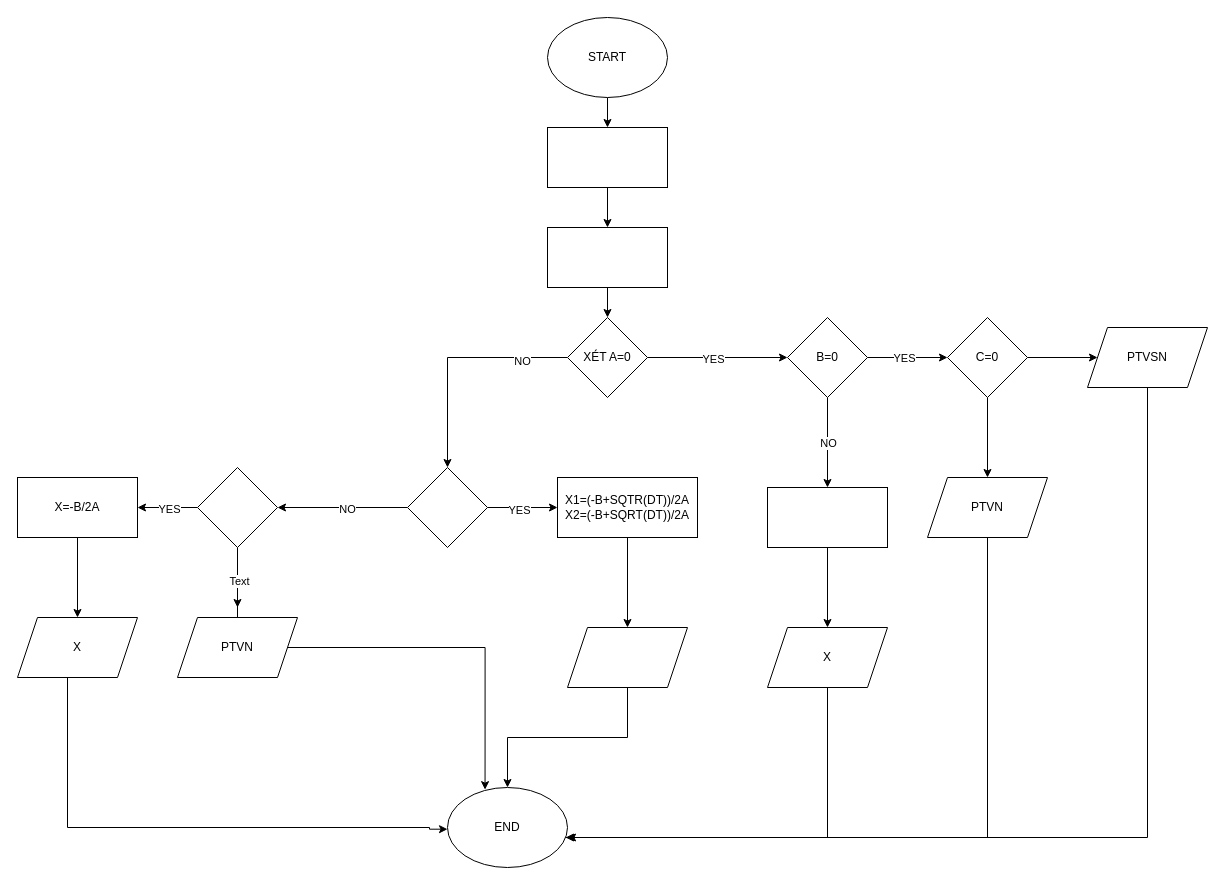
Image size: 1225x885. Some labels were removed from this diagram. The centre of each missing label's shape, as x and y in pixels:
"A,B,C" goes at (x=607, y=157).
"DELTA>0" goes at (x=447, y=507).
"DT=0" goes at (x=237, y=507).
"X1 X2" goes at (x=627, y=657).
"X= NGHIEM DELTA=B^2-4AC" goes at (x=607, y=257).
"X=-B/C" goes at (x=827, y=517).
